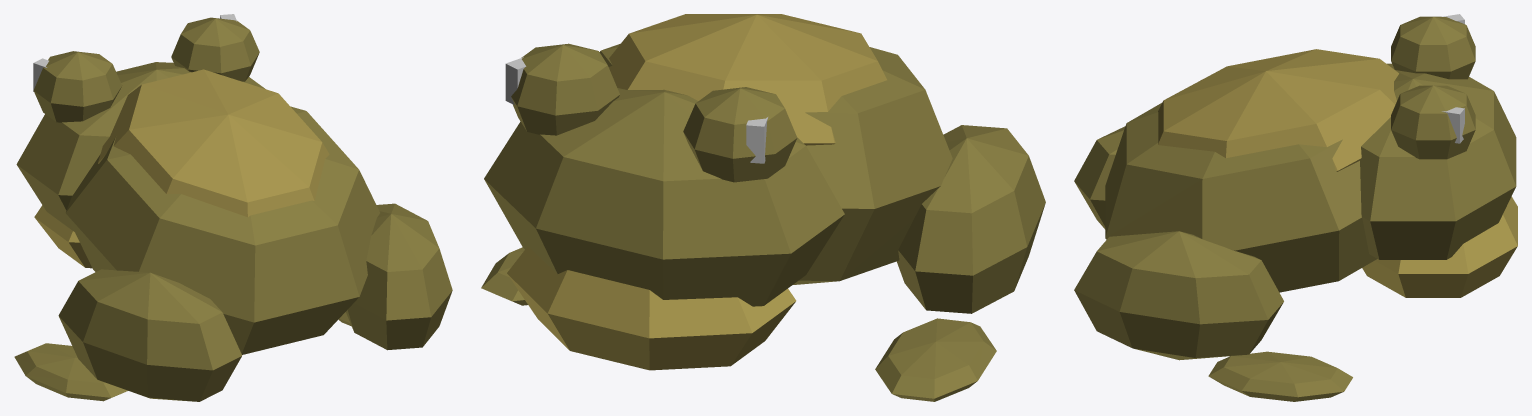
The model's file is animal_bullfrog.obj.
3 views of the same model, side by side, from view 1: azimuth 30°, elevation 25°; view 2: azimuth 150°, elevation 25°; view 3: azimuth 270°, elevation 25° (orthographic). The views are drawn at different scales.
Visible parts, largest first — view 1: animal_bullfrog; view 2: animal_bullfrog; view 3: animal_bullfrog.
Part boxes in pixels (x1=…): animal_bullfrog: x1=14, y1=14, x2=452, y2=401; animal_bullfrog: x1=481, y1=14, x2=1045, y2=401; animal_bullfrog: x1=1074, y1=14, x2=1517, y2=401.
Size of the model in its own units: 0.4134 by 0.2755 by 0.4147.
